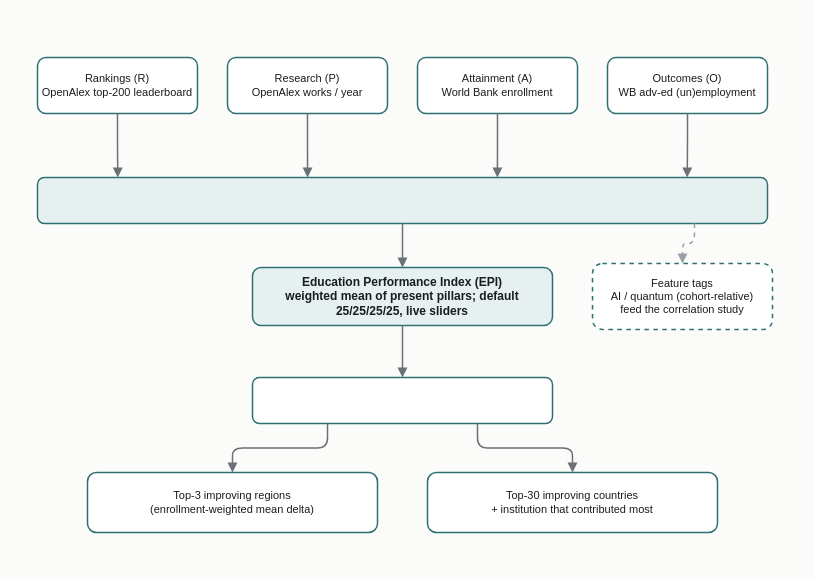
Some shapes in this 814 by 579 pixel diagram are drawn without their labels. Here are the shapes that lost their labels. From the top down, the centre of each, then its label:
the point at 402,200: Per-year min-max normalize to 0-100 (z-score variant for the sensitivity check)
the point at 402,400: Deltas: 1 / 3 / 5 / 10 years (+ per-pillar)
